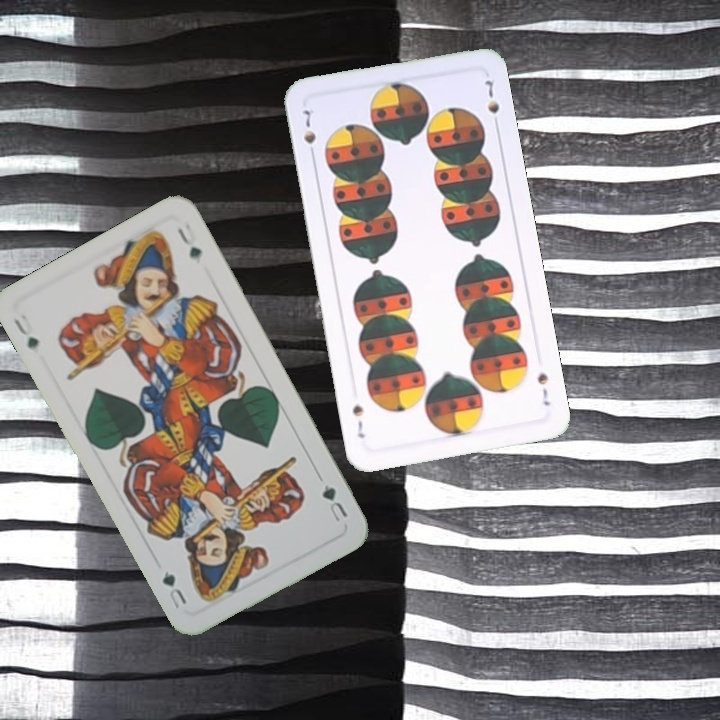GU: (318, 480, 351, 525), (9, 314, 42, 352)
S7: (299, 105, 319, 161), (533, 369, 553, 408)
